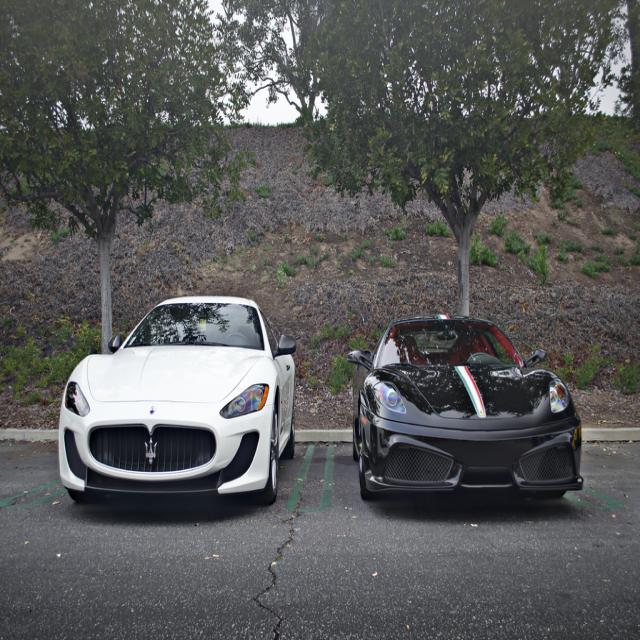car: (59, 288, 295, 510), (349, 306, 587, 499)
